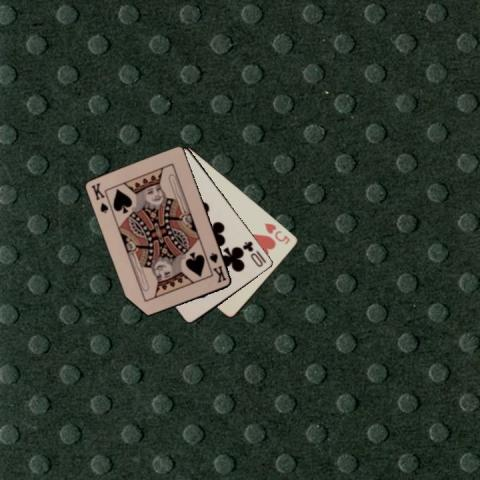10c: (240, 238, 268, 269)
5h: (262, 220, 291, 246)
Ks: (89, 180, 110, 215), (207, 250, 228, 284)
